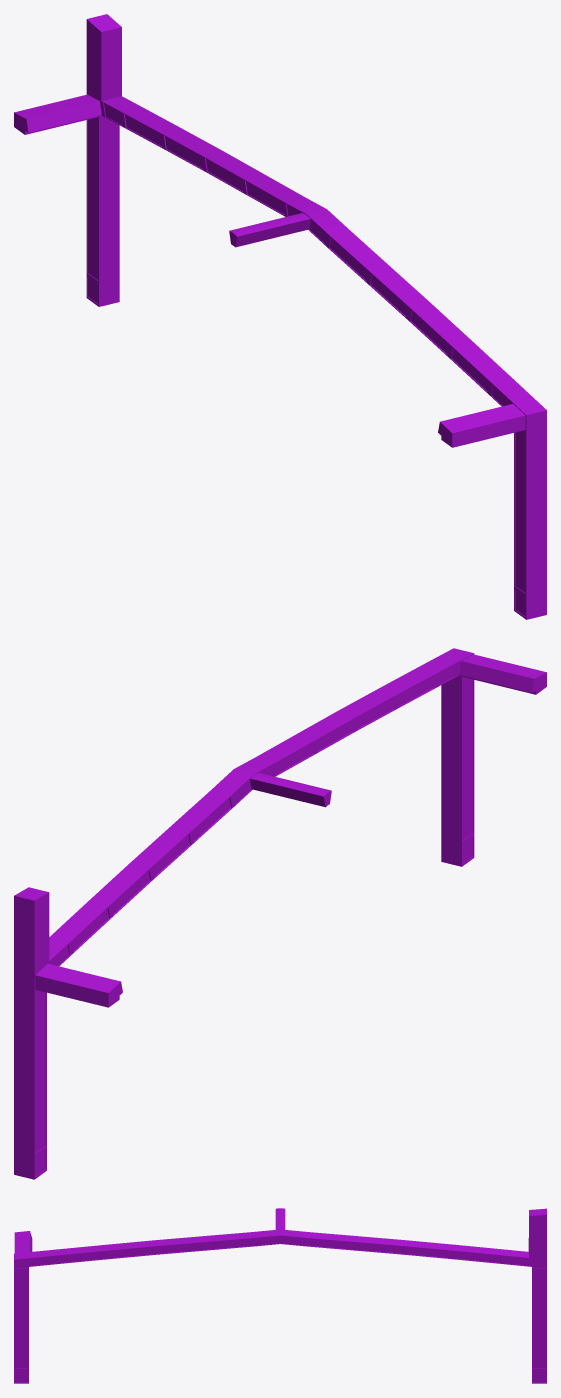
Rendered from Industry_RoofFrame_low.fbx.
3 views of the same model, one above another, from view 1: azimuth 30°, elevation 25°; view 2: azimuth 150°, elevation 25°; view 3: azimuth 270°, elevation 25° (orthographic). The views are drawn at different scales.
Visible parts, largest first — view 1: Industry_RoofFrame_low; view 2: Industry_RoofFrame_low; view 3: Industry_RoofFrame_low.
Part boxes in pixels (x1=…): Industry_RoofFrame_low: x1=14, y1=14, x2=546, y2=619; Industry_RoofFrame_low: x1=14, y1=648, x2=546, y2=1179; Industry_RoofFrame_low: x1=14, y1=1208, x2=546, y2=1383.
Size of the model in its own units: 627 by 1780 by 5084.
